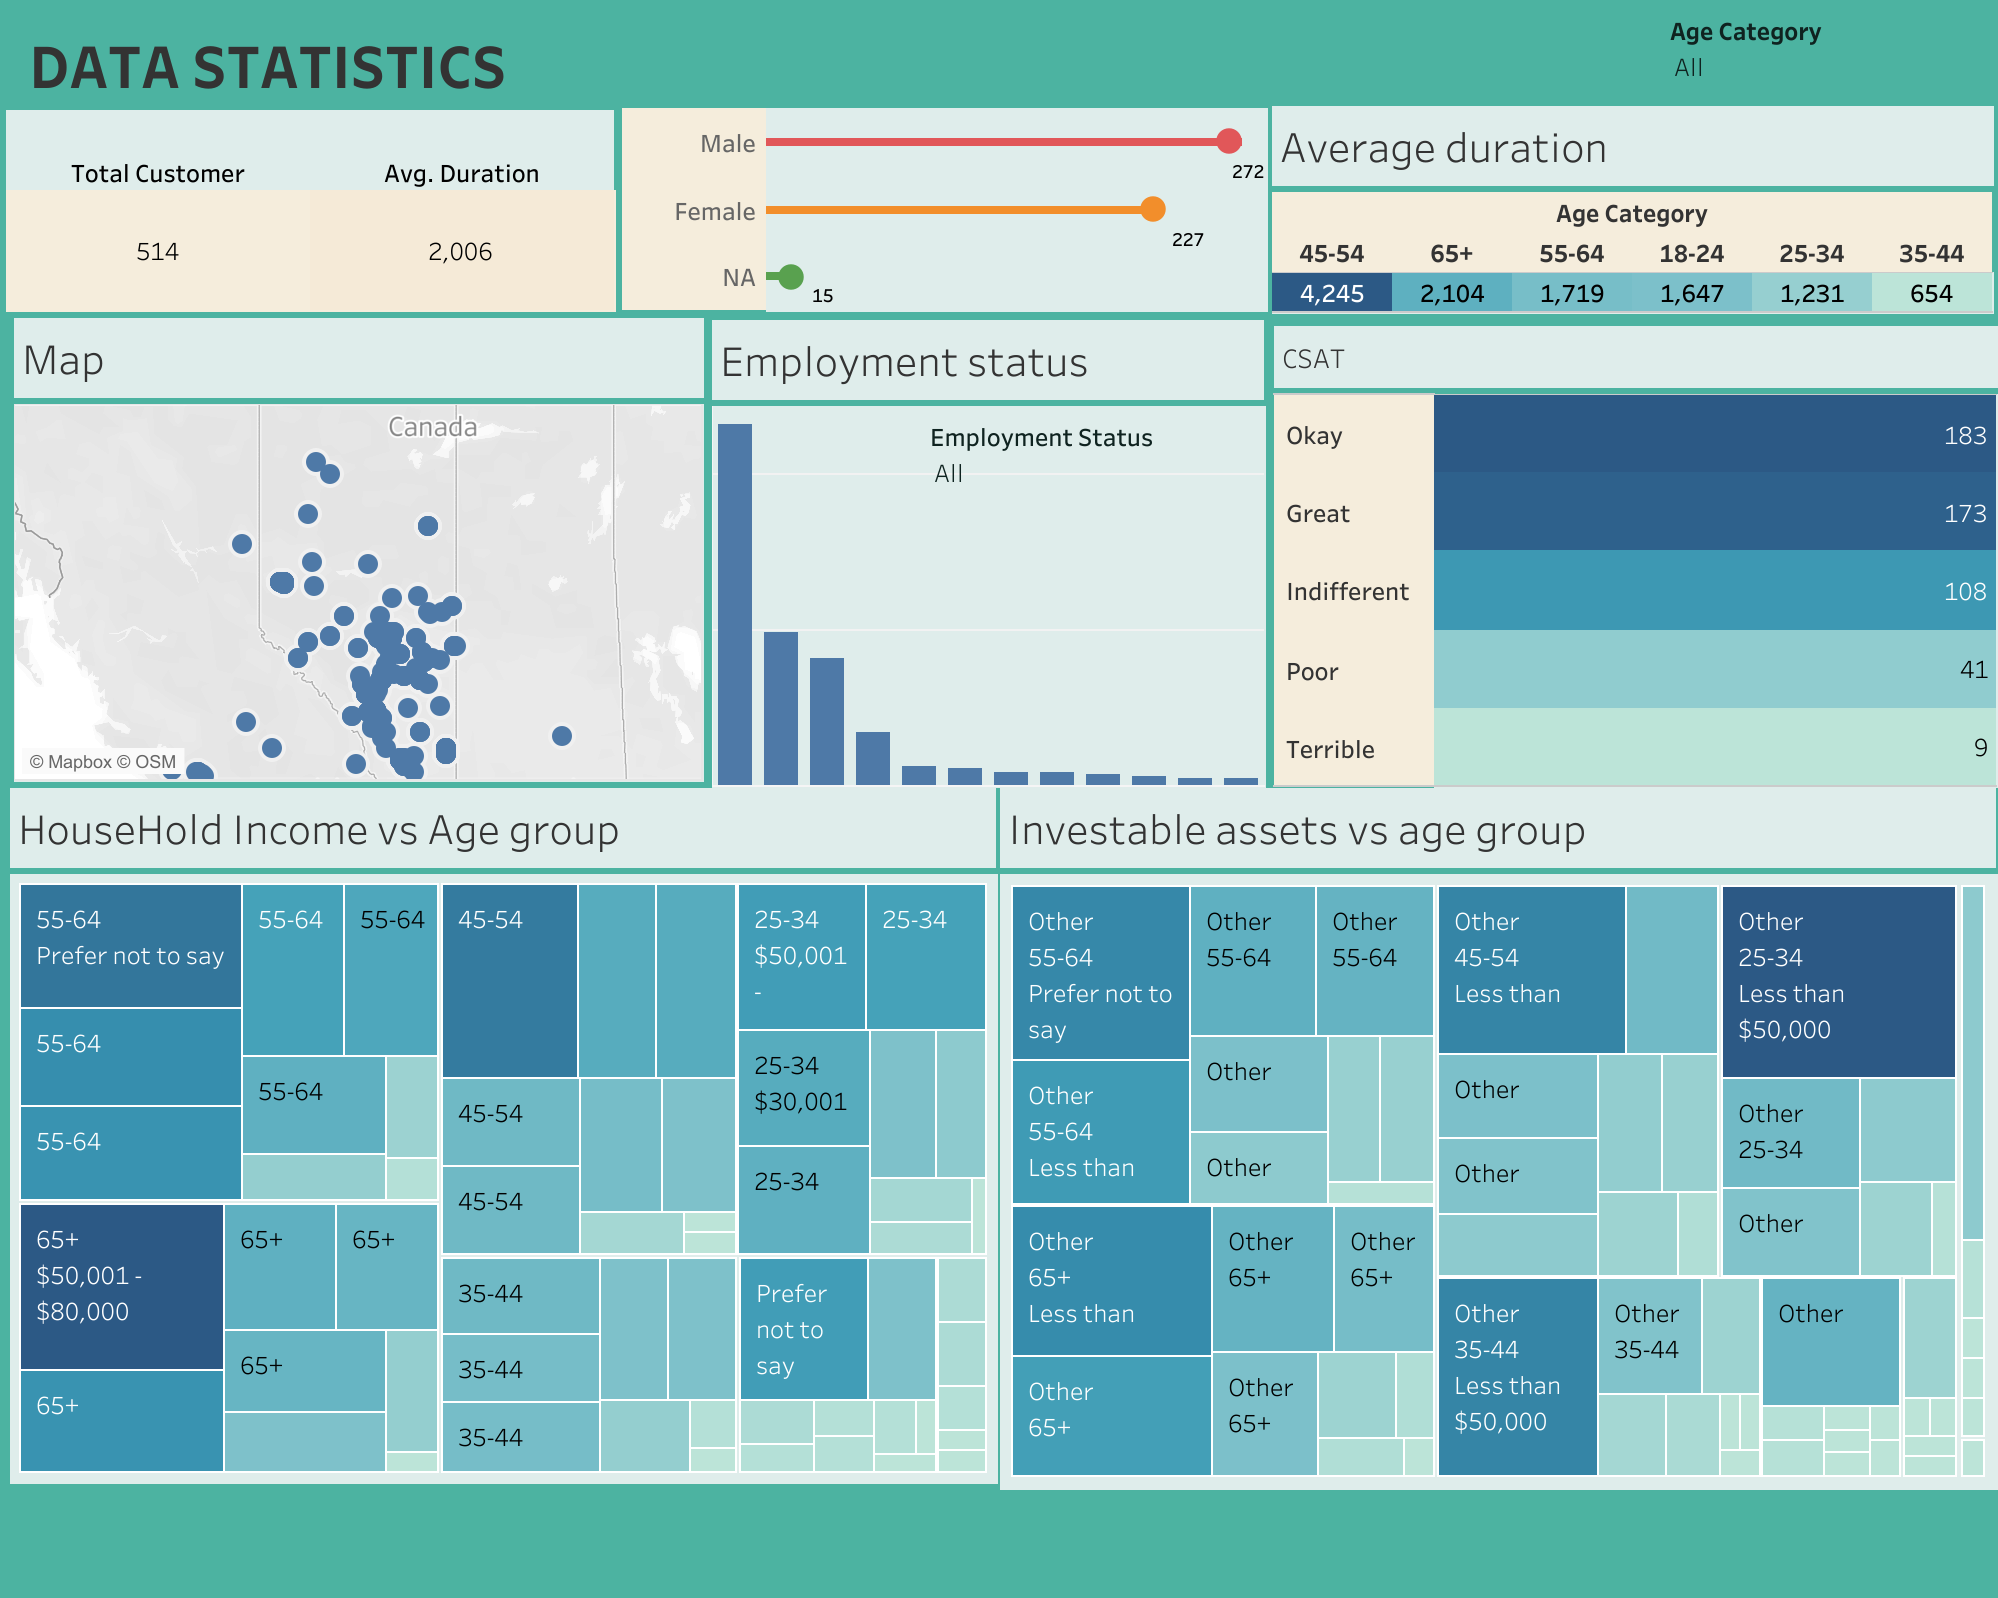

The page's visual inventory and layout, read from the dashboard file:
{"tool":"tableau","page":{"name":"Dashboard 2","canvas":[1000,800],"ordinal":0},"visuals":[{"type":"filter","title":"Average duration","param":"[federated.0et9d0w0zyol1u15vqbq81cuibks].[none:Age_Category:nk]","box":[835,5,160,44]},{"type":"title","box":[8,8,984,48]},{"type":"worksheet","title":"Average duration","mark":"Square","cols":["Age_Category"],"box":[636,53,361,106]},{"type":"worksheet","title":"Gender lollipop","mark":"Automatic","cols":["RM!Candidate!Storytelling!Datas_2326578D3D614EFF9F14AE2F3EC7","RM!Candidate!Storytelling!Datas_2326578D3D614EFF9F14AE2F3EC7"],"box":[311,54,322,101]},{"type":"worksheet","title":"Total count","mark":"Automatic","box":[3,55,304,100]},{"type":"worksheet","title":"Map","mark":"Automatic","box":[7,159,345,232]},{"type":"worksheet","title":"Employment status","mark":"Automatic","rows":["RM!Candidate!Storytelling!Datas_2326578D3D614EFF9F14AE2F3EC7"],"cols":["Employment_Status"],"box":[356,160,276,233]},{"type":"worksheet","title":"CSAT","mark":"Square","rows":["Q2"],"box":[637,163,362,231]},{"type":"filter","title":"Employment status","param":"[federated.0et9d0w0zyol1u15vqbq81cuibks].[none:Employment_Status:nk]","box":[465,208,160,44]},{"type":"worksheet","title":"HouseHold Income vs Age group","mark":"Automatic","box":[5,394,493,392]},{"type":"worksheet","title":"Investable assets vs age group","mark":"Automatic","box":[500,394,498,377]}]}

Visuals, with their boxes in screenshot pixels (x1, y1, x2, y2), scaled from the page's 1000x800 canvas onto the 1998x1598 screenshot:
"Average duration" filter: 1668:10:1988:98
title: 16:16:1982:112
"Average duration" worksheet (Square marks): 1271:106:1992:318
"Gender lollipop" worksheet: 621:108:1265:310
"Total count" worksheet: 6:110:613:310
"Map" worksheet: 14:318:703:781
"Employment status" worksheet: 711:320:1263:785
"CSAT" worksheet (Square marks): 1273:326:1996:787
"Employment status" filter: 929:415:1249:503
"HouseHold Income vs Age group" worksheet: 10:787:995:1570
"Investable assets vs age group" worksheet: 999:787:1994:1540
